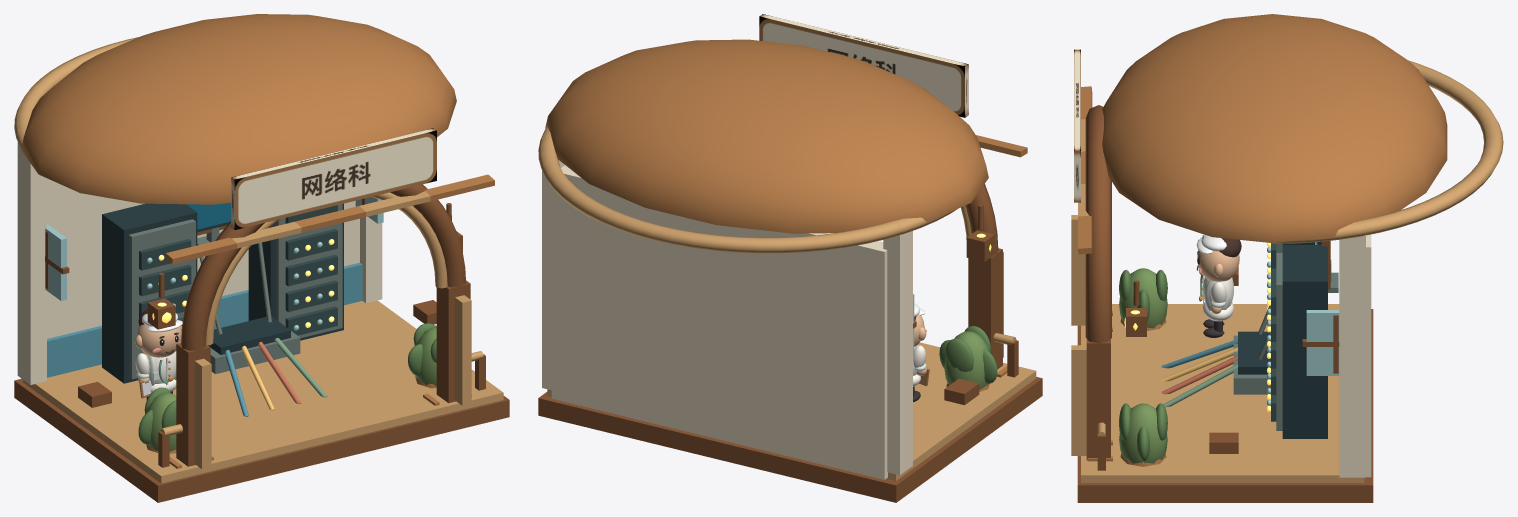
File: network.glb
The picture shows the model from 3 angles, left to right: view 1: azimuth 30°, elevation 25°; view 2: azimuth 150°, elevation 25°; view 3: azimuth 270°, elevation 25°; orthographic projection. The views are drawn at different scales.
Parts seen in each view (by area): view 1: static batch geometry (×10), static batch platform, sign-网络科, network clinic, large-head; view 2: static batch geometry (×5), static batch platform, sign-网络科; view 3: static batch geometry (×12), static batch platform, sign-网络科, large-head, network clinic.
Boxes of the visible parts, x1,y1,x2,y2 form: static batch geometry (×10): (14,14,503,483); static batch platform: (14,184,509,502); sign-网络科: (231,128,436,229); network clinic: (187,202,300,403); large-head: (137,324,181,357); static batch geometry (×5): (538,39,1036,480); static batch platform: (538,184,1042,502); sign-网络科: (759,14,968,117); static batch geometry (×12): (1071,14,1503,482); static batch platform: (1077,105,1373,502); sign-网络科: (1074,49,1080,202); large-head: (1197,251,1239,281); network clinic: (1161,242,1317,394).
Size of the model in its own units: 6.84 by 5.62 by 6.21.
Materials: 30 (1 with a texture image).
